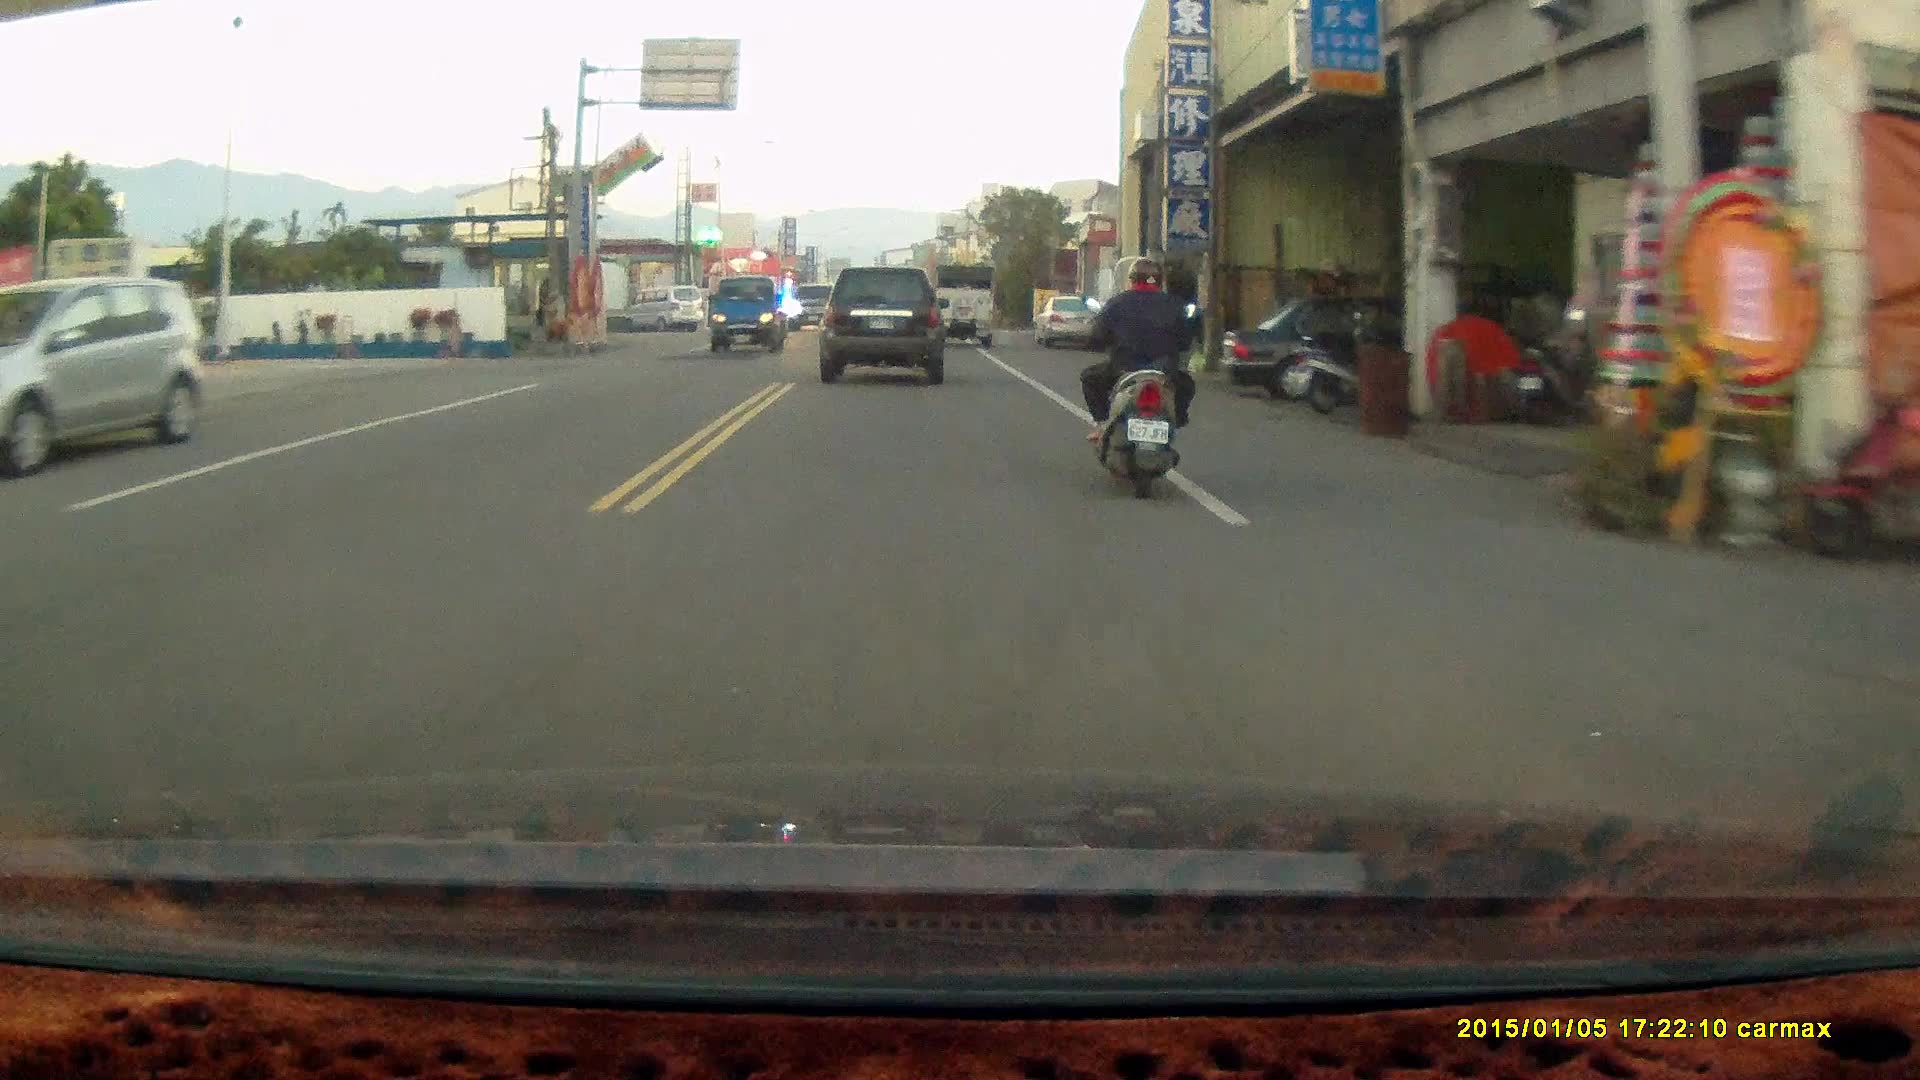rider: (1082, 249, 1198, 494)
vehicle: (1, 272, 207, 480), (1213, 287, 1482, 402), (820, 265, 947, 381), (712, 270, 797, 350), (927, 261, 998, 345), (624, 283, 709, 332), (1033, 295, 1096, 345)
